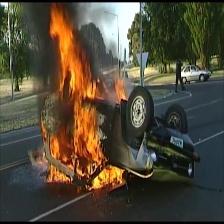fire_h: (49, 3, 106, 176), (85, 164, 124, 190), (46, 163, 73, 184)
fire_l: (115, 79, 125, 104), (38, 151, 48, 164), (41, 119, 46, 139)
